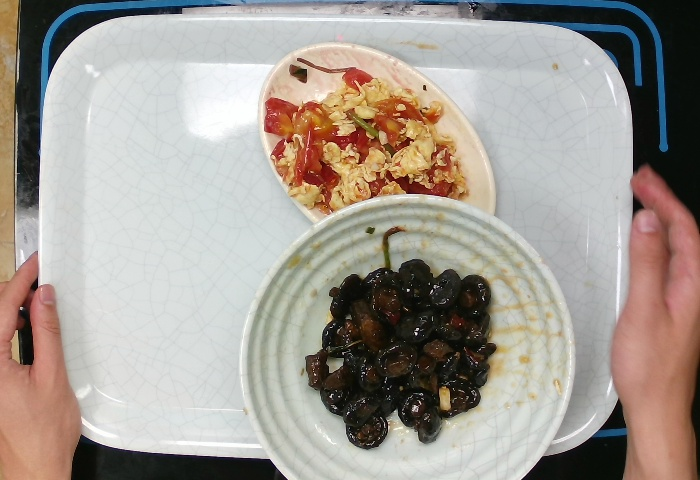JYsf-Da_Tang_Wan: (236, 192, 581, 480)
JYsf-Tuo_Yuan_Wan: (254, 32, 502, 272)
